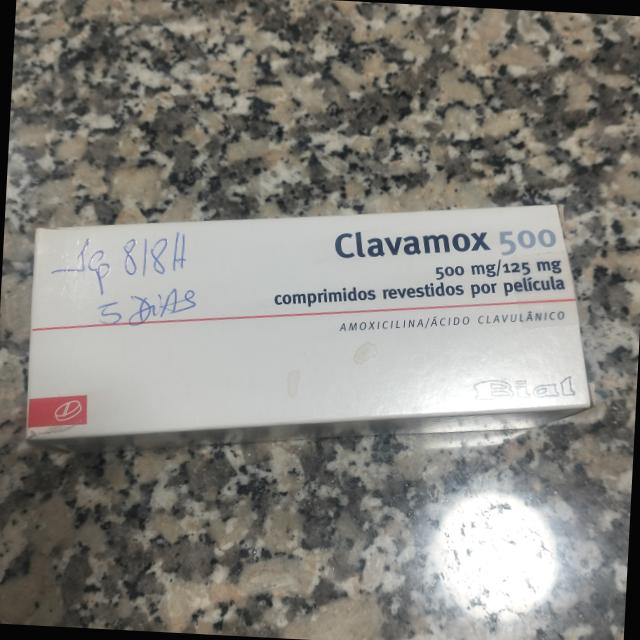box: (27, 204, 593, 453)
